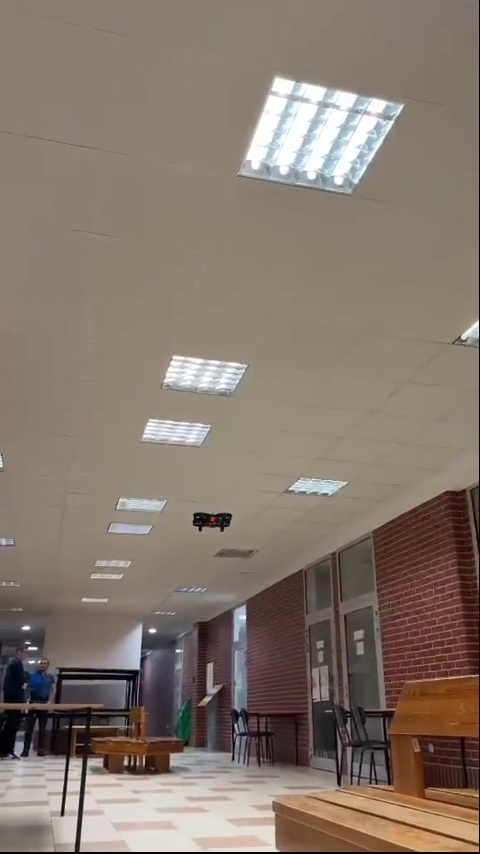drone: (186, 510, 240, 531)
no vest: (0, 644, 30, 752), (32, 652, 57, 710)
